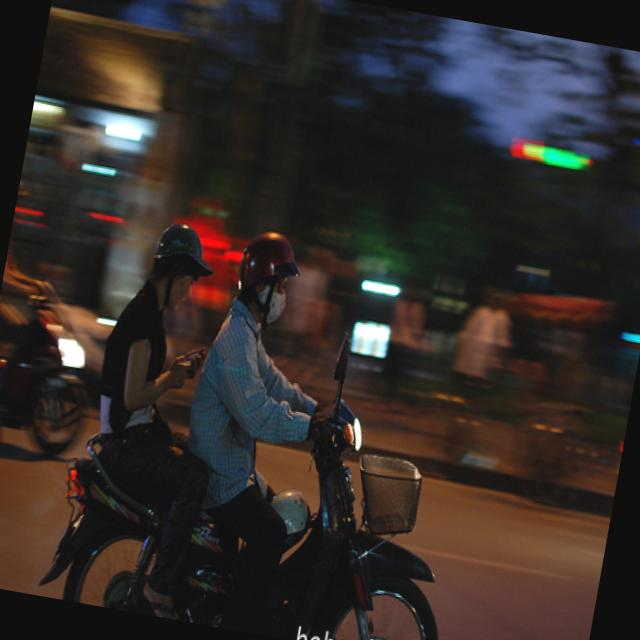Vehicle: (35, 284, 491, 640), (0, 285, 109, 462), (0, 305, 21, 498)
